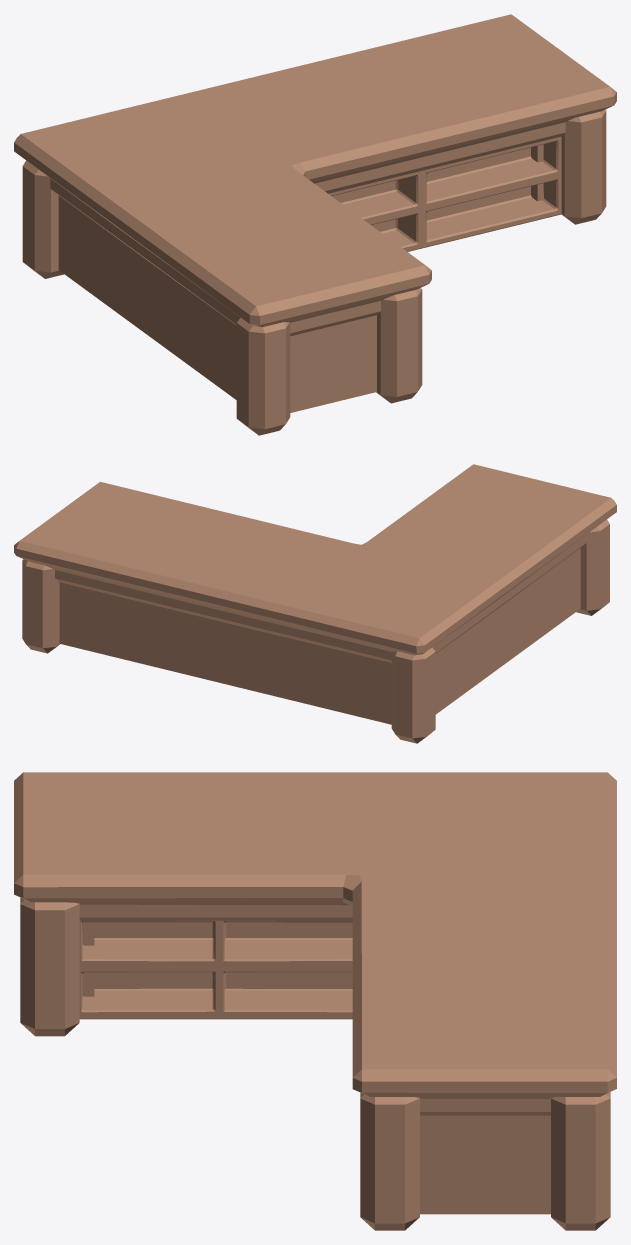
File: Counter.fbx
3 renders of one model, top to bottom at view 1: azimuth 30°, elevation 25°; view 2: azimuth 150°, elevation 25°; view 3: azimuth 270°, elevation 25°, orthographic. The views are drawn at different scales.
Visible parts, largest first — view 1: Counter; view 2: Counter; view 3: Counter.
Part boxes in pixels (x1,y1,x2,y2): Counter: (14, 14, 616, 435); Counter: (14, 464, 616, 743); Counter: (14, 772, 616, 1230).
Size of the model in its own units: 496 by 127 by 415.
